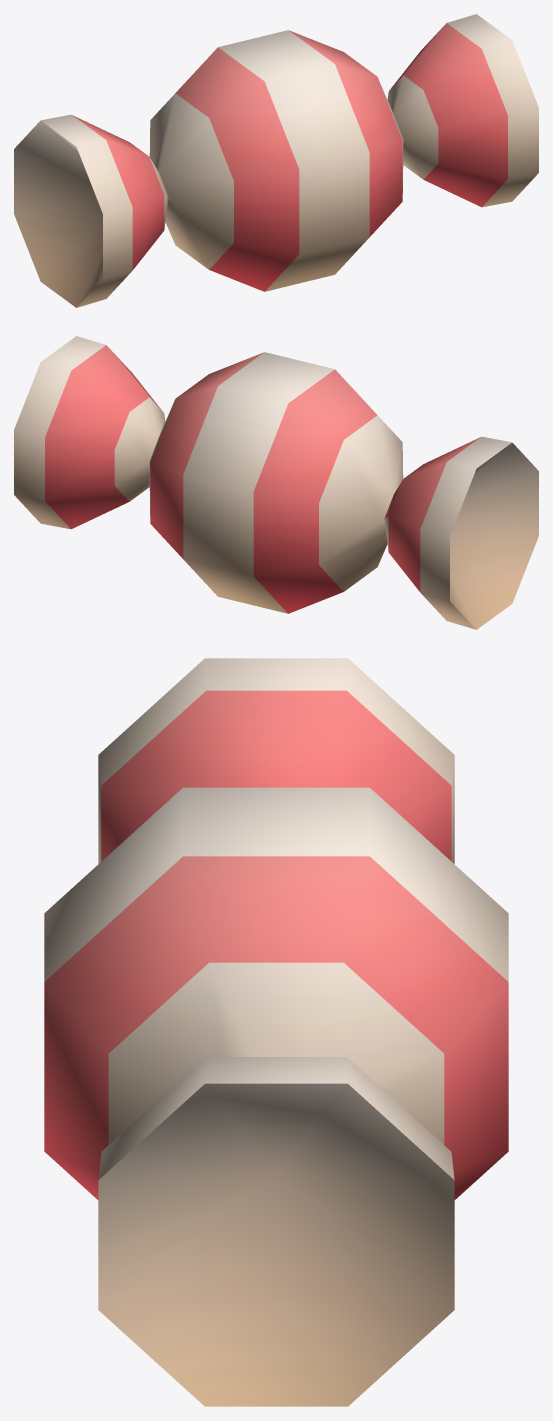
Rendered from candy_pink_a.glb.
The picture shows the model from 3 angles, top to bottom: view 1: azimuth 30°, elevation 25°; view 2: azimuth 150°, elevation 25°; view 3: azimuth 270°, elevation 25°; orthographic projection. The views are drawn at different scales.
Parts seen in each view (by area): view 1: candy_pink_A; view 2: candy_pink_A; view 3: candy_pink_A.
Part boxes in pixels (<box>): candy_pink_A: <box>14,14,538,307</box>; candy_pink_A: <box>14,336,538,629</box>; candy_pink_A: <box>44,658,508,1406</box>.
Bounding box in the file's own units: 0.65 × 0.3 × 0.3.
Materials: 1 (1 with a texture image).
